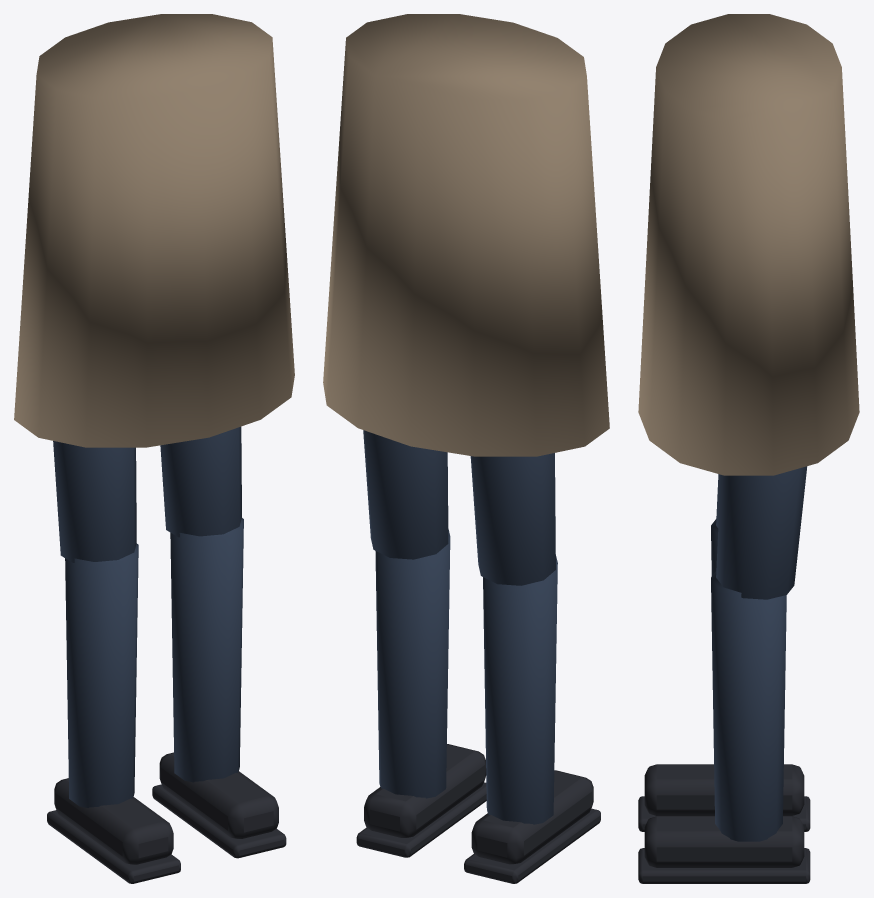
File: human_a.fbx
3 renders of one model, left to right at view 1: azimuth 30°, elevation 25°; view 2: azimuth 150°, elevation 25°; view 3: azimuth 270°, elevation 25°, orthographic. The views are drawn at different scales.
Visible parts, largest first — view 1: human_a; view 2: human_a; view 3: human_a.
Boxes of the visible parts, left/top/right/bottom form: human_a: left=14, top=14, right=294, bottom=883; human_a: left=323, top=14, right=609, bottom=883; human_a: left=638, top=14, right=859, bottom=883.
Size of the model in its own units: 0.4875 by 0.36 by 1.4.
